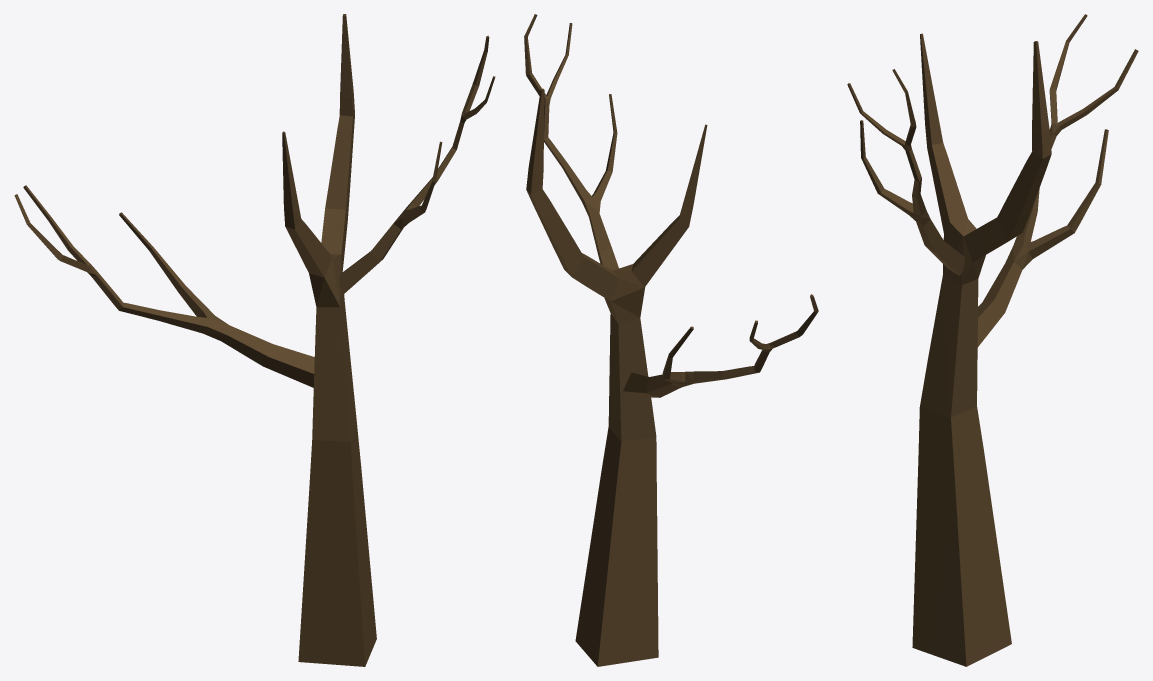
File: Tree_16.fbx
The picture shows the model from 3 angles, left to right: view 1: azimuth 30°, elevation 25°; view 2: azimuth 150°, elevation 25°; view 3: azimuth 270°, elevation 25°; orthographic projection. The views are drawn at different scales.
Visible parts, largest first — view 1: Tree_16; view 2: Tree_16; view 3: Tree_16.
Part boxes in pixels (<box>): Tree_16: <box>14,14,495,666</box>; Tree_16: <box>524,14,818,666</box>; Tree_16: <box>847,14,1138,666</box>.
Bounding box in the file's own units: 262 × 394 × 164.
